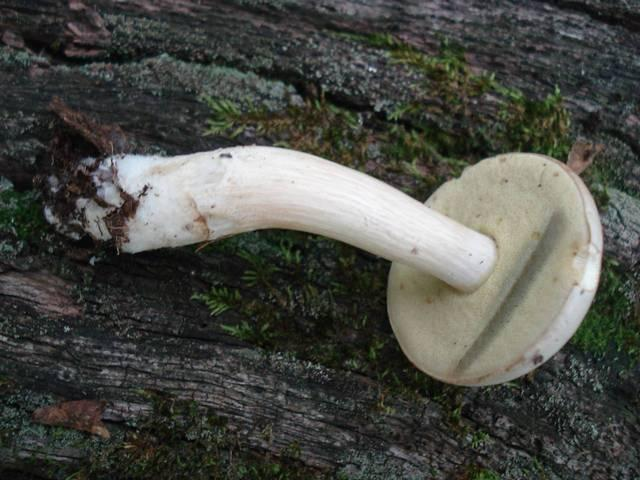Edible Mushroom: (42, 142, 602, 392)
